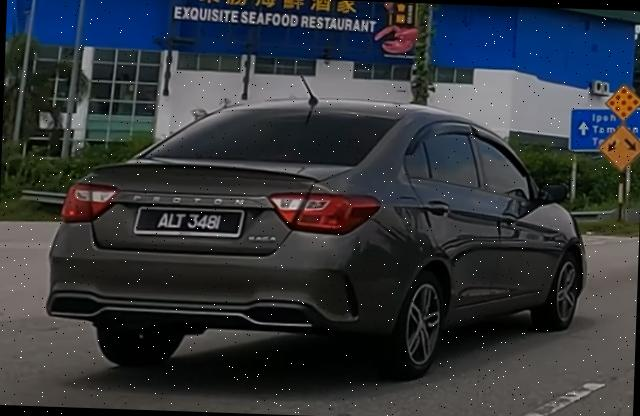License_Plate: (133, 206, 246, 242)
car: (43, 74, 594, 388)
